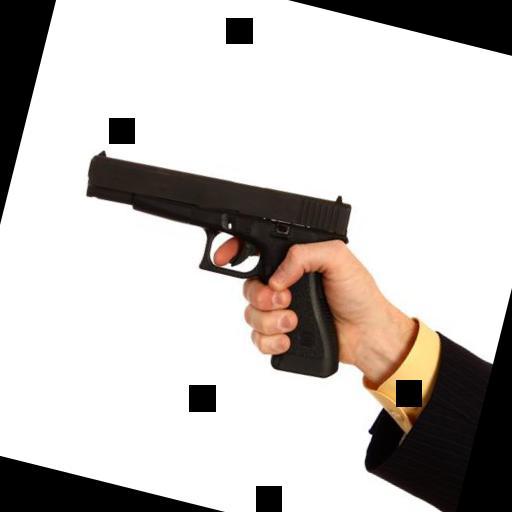Handgun: (46, 122, 380, 386)
